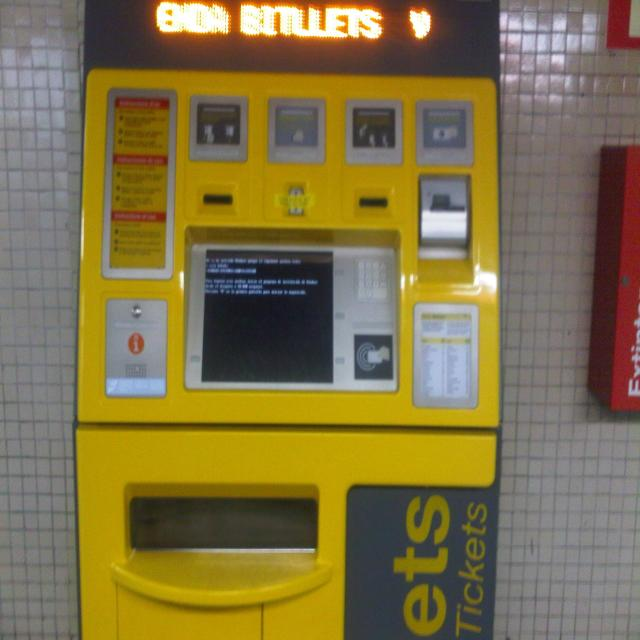maquina-tickets: (72, 2, 509, 637)
